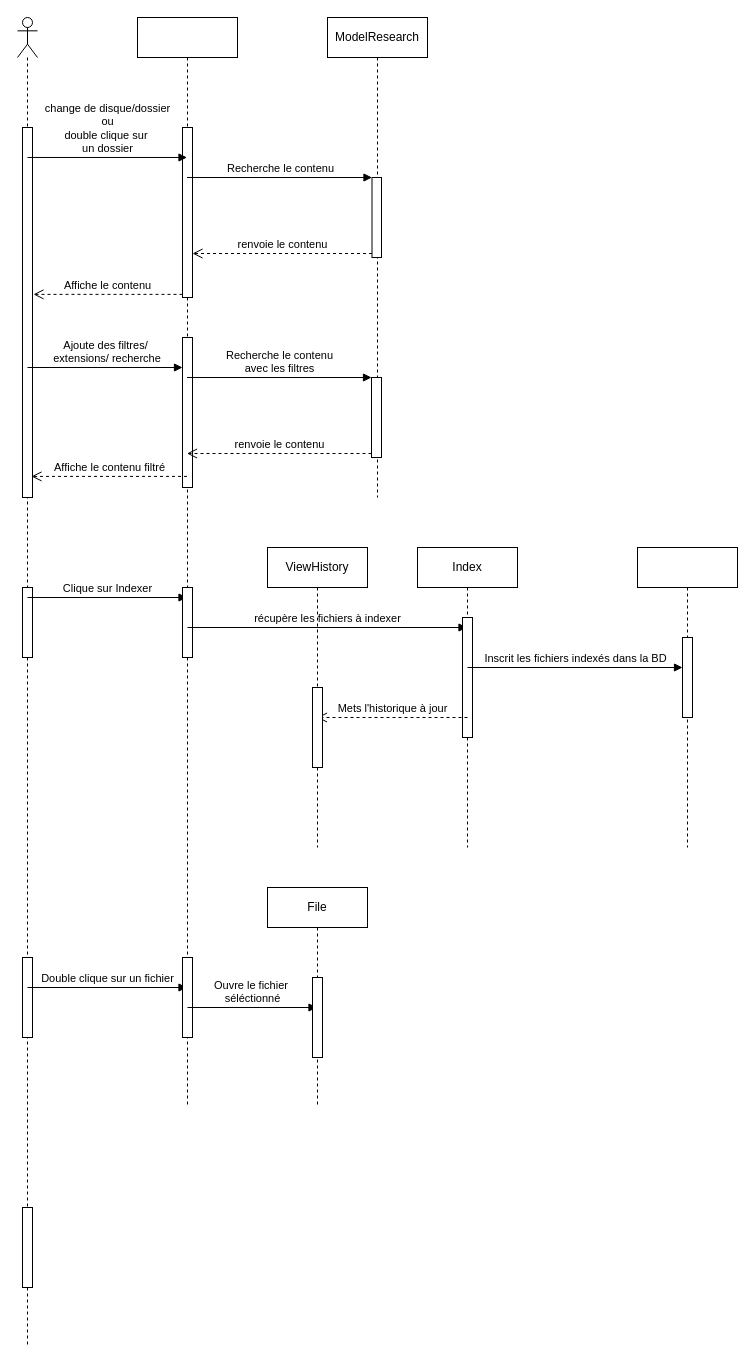
The diagram is 755 pixels wide and 1365 high, and some of its shapes have lost their labels. Here are the shapes that lost their labels. From the top down, the centre of each, then its label:
At [187,562]: "ViewIndexing".
At [687,697]: "Database".
